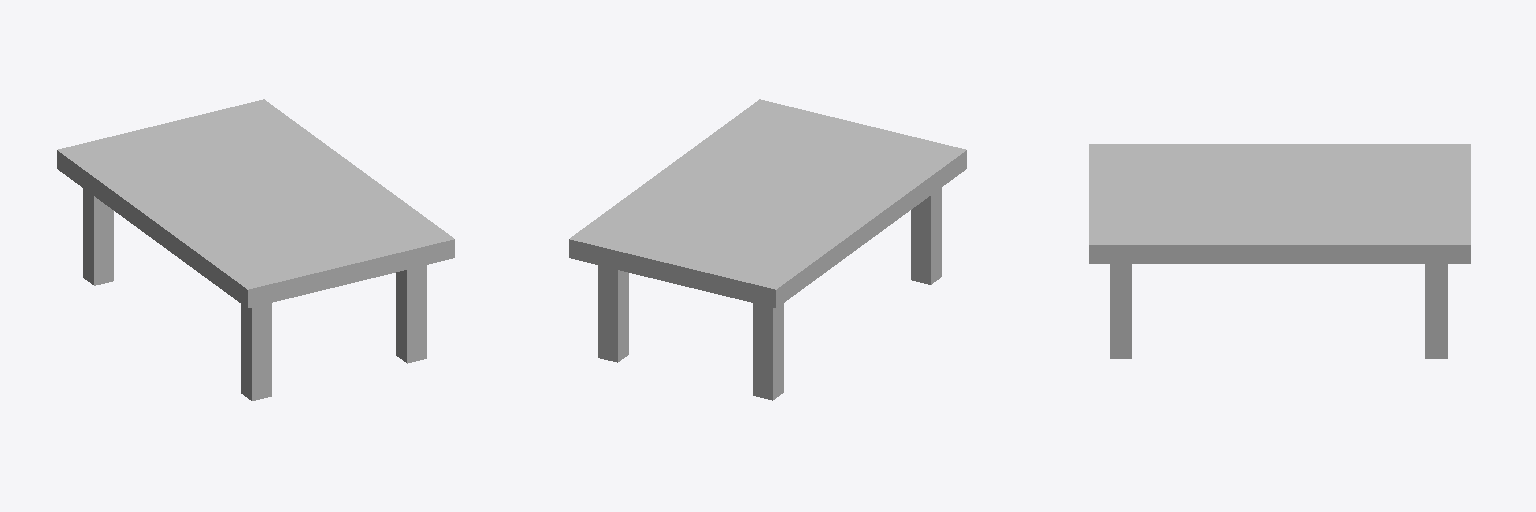
The model's file is table.obj.
3 views of the same model, side by side, from view 1: azimuth 30°, elevation 25°; view 2: azimuth 150°, elevation 25°; view 3: azimuth 270°, elevation 25° (orthographic).
Parts seen in each view (by area): view 1: tabletop table, table table_leg_3, table table_leg_4, table table_leg_2; view 2: tabletop table, table table_leg_2, table table_leg_1, table table_leg_3; view 3: tabletop table, table table_leg_1, table table_leg_4.
Part boxes in pixels (bbox=[...]): tabletop table: bbox=[57, 99, 454, 307]; table table_leg_3: bbox=[241, 303, 271, 400]; table table_leg_4: bbox=[396, 265, 426, 363]; table table_leg_2: bbox=[83, 188, 113, 285]; tabletop table: bbox=[569, 99, 966, 307]; table table_leg_2: bbox=[753, 303, 783, 400]; table table_leg_1: bbox=[598, 265, 628, 362]; table table_leg_3: bbox=[911, 188, 941, 284]; tabletop table: bbox=[1089, 144, 1470, 263]; table table_leg_1: bbox=[1425, 264, 1447, 358]; table table_leg_4: bbox=[1110, 264, 1131, 358].
Size of the model in its own units: 10.62 by 6.01 by 16.93.